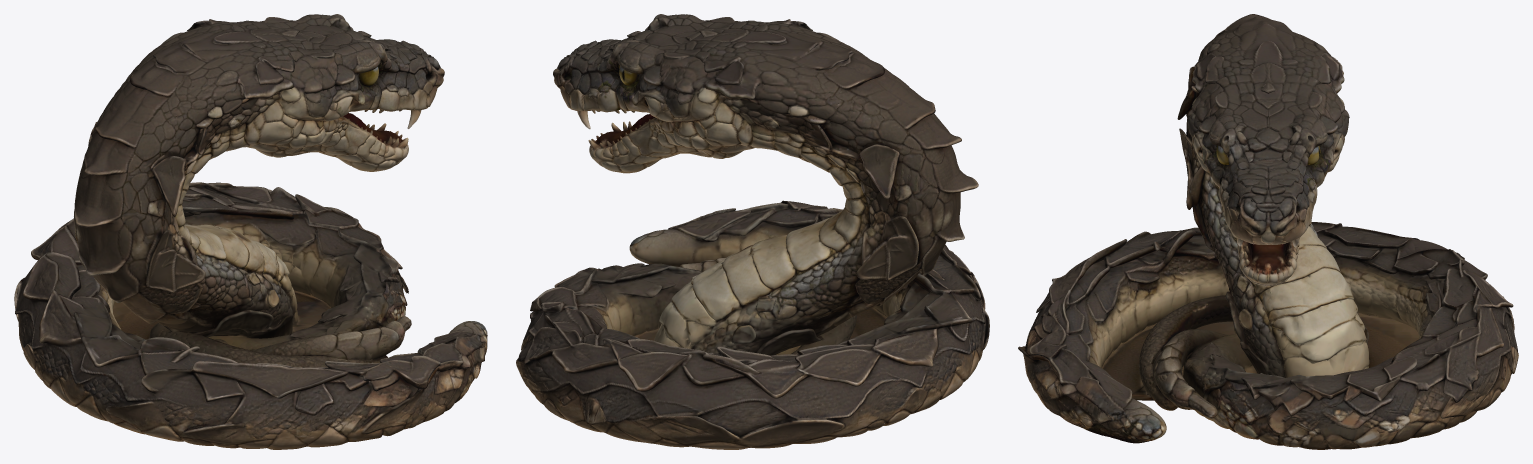
File: bashe.glb
3 renders of one model, left to right at view 1: azimuth 30°, elevation 25°; view 2: azimuth 150°, elevation 25°; view 3: azimuth 270°, elevation 25°, orthographic. The views are drawn at different scales.
Visible parts, largest first — view 1: tripo_node_2b719c6b-d4b5-437c-a8ec-90b24b97a63c; view 2: tripo_node_2b719c6b-d4b5-437c-a8ec-90b24b97a63c; view 3: tripo_node_2b719c6b-d4b5-437c-a8ec-90b24b97a63c.
Boxes of the visible parts, x1,y1,x2,y2 form: tripo_node_2b719c6b-d4b5-437c-a8ec-90b24b97a63c: (14,14,487,449); tripo_node_2b719c6b-d4b5-437c-a8ec-90b24b97a63c: (516,14,989,449); tripo_node_2b719c6b-d4b5-437c-a8ec-90b24b97a63c: (1018,14,1518,449).
Bounding box in the file's own units: 0.8591 × 0.6907 × 0.9812.
Materials: 1 (1 with a texture image).
